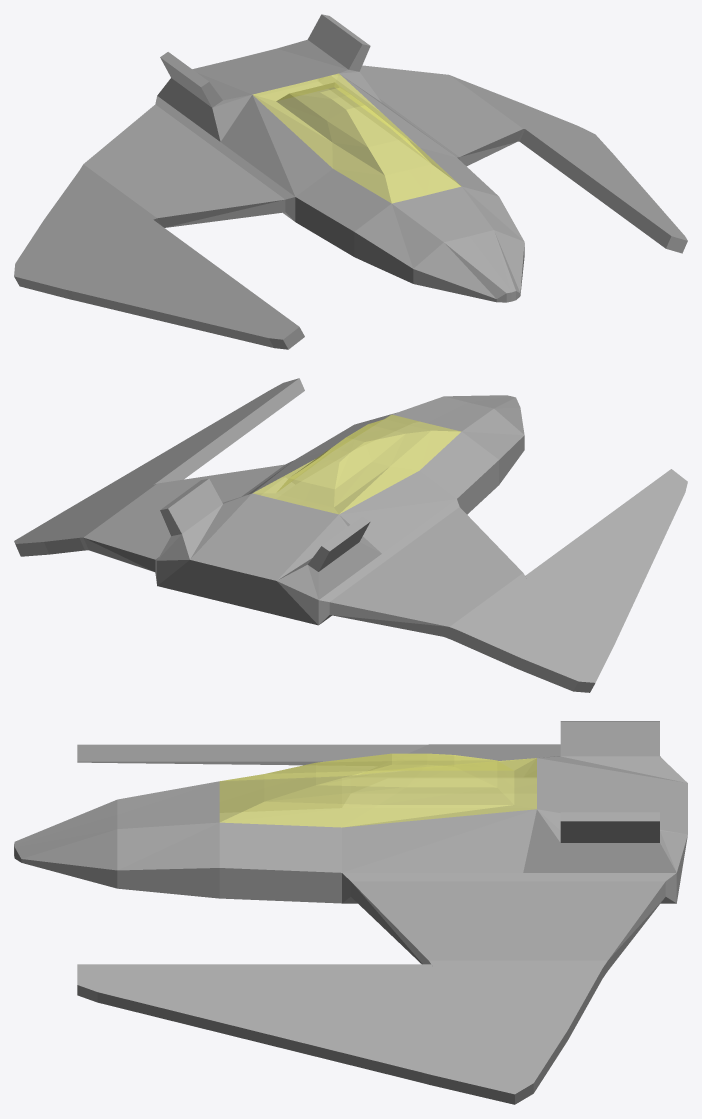
The model's file is SpaceshipFBX.fbx.
3 renders of one model, top to bottom at view 1: azimuth 30°, elevation 25°; view 2: azimuth 150°, elevation 25°; view 3: azimuth 270°, elevation 25°, orthographic. The views are drawn at different scales.
Parts seen in each view (by area): view 1: polySurface1; view 2: polySurface1; view 3: polySurface1.
Part boxes in pixels (x1,y1,x2,y2): polySurface1: [14, 14, 687, 349]; polySurface1: [14, 378, 687, 692]; polySurface1: [14, 721, 687, 1104].
Bounding box in the file's own units: 24.34 × 5.85 × 20.17.
